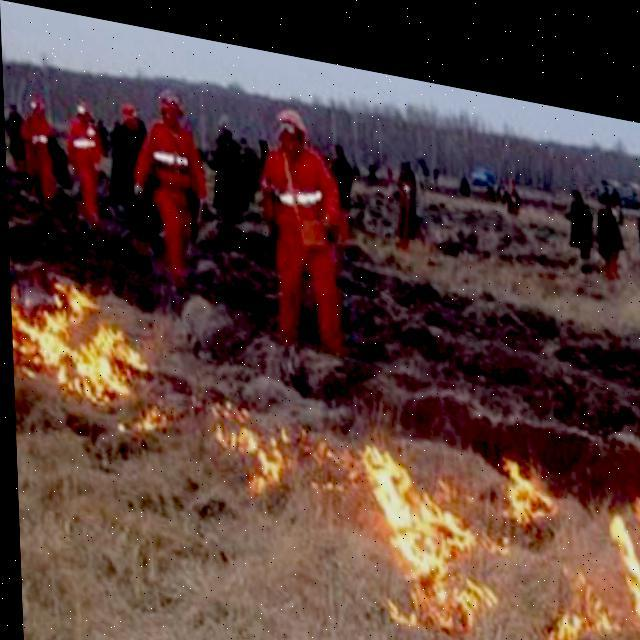Fire: (356, 432, 494, 629), (196, 391, 331, 506), (542, 538, 612, 639), (607, 486, 639, 608), (501, 437, 549, 510)
